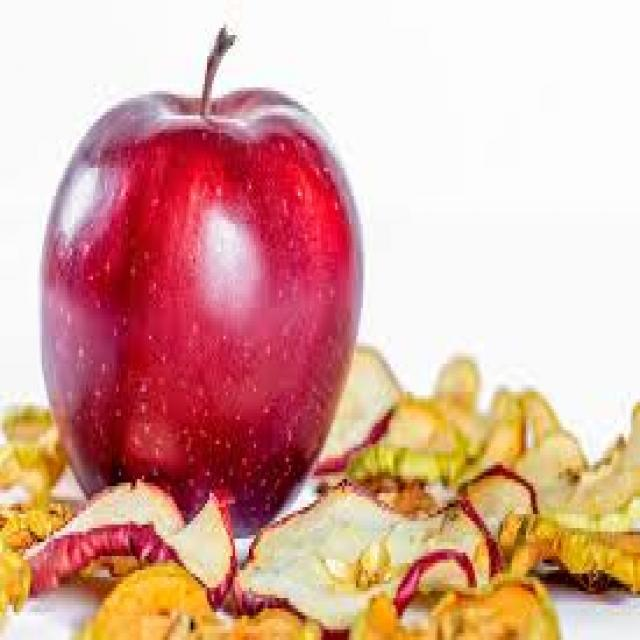Fresh Apple: (22, 58, 368, 540)
